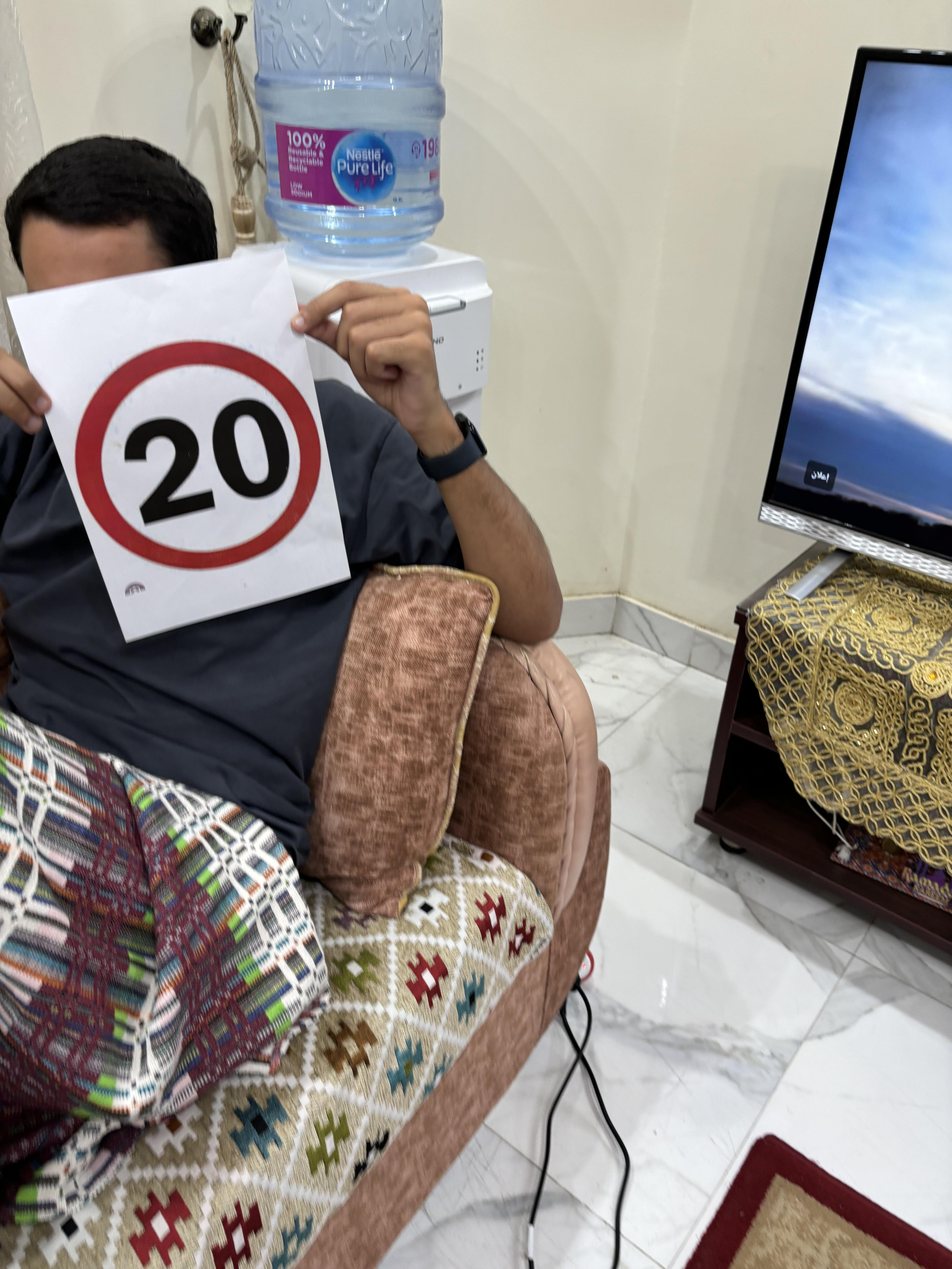20-Speed: (63, 331, 335, 559)
